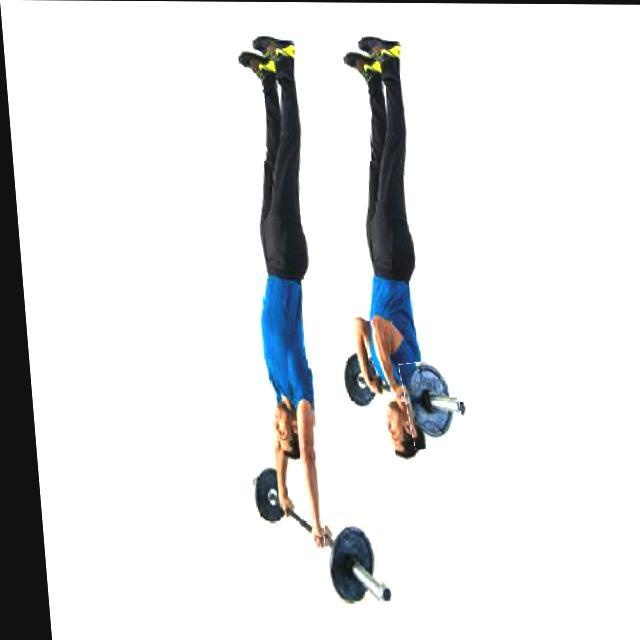barbell: (311, 521, 376, 612), (395, 360, 458, 449)
